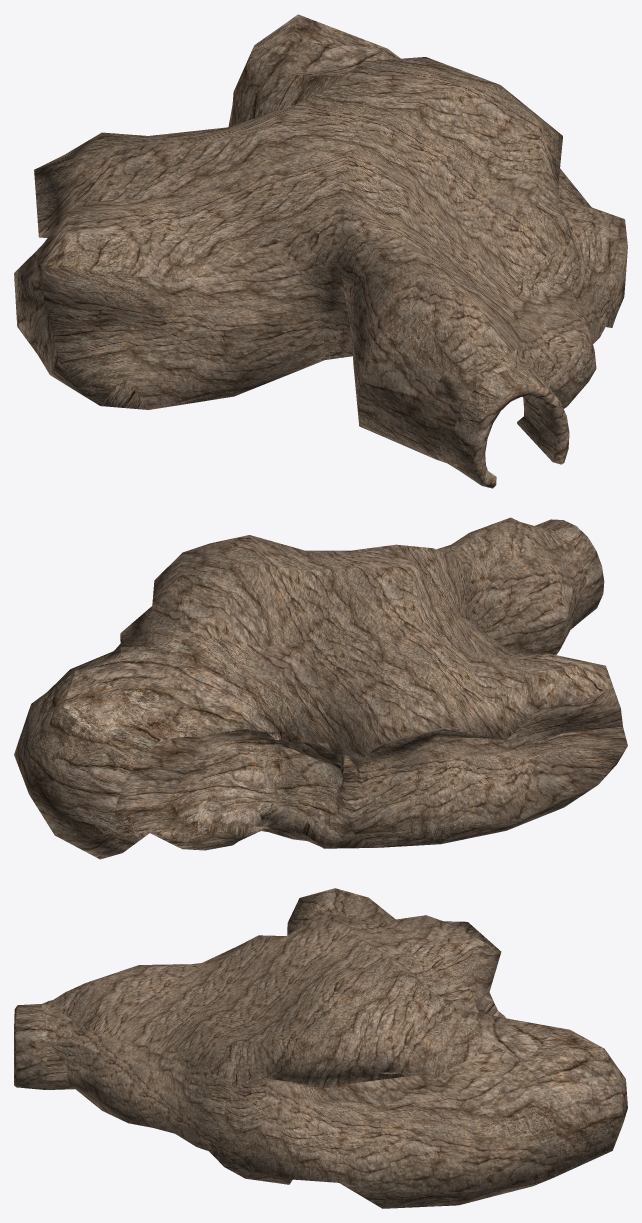
Rendered from wall01.FBX.
3 views of the same model, one above another, from view 1: azimuth 30°, elevation 25°; view 2: azimuth 150°, elevation 25°; view 3: azimuth 270°, elevation 25° (orthographic). The views are drawn at different scales.
Visible parts, largest first — view 1: wall01, wall02; view 2: wall01, wall02; view 3: wall01, wall02.
Boxes of the visible parts, x1,y1,x2,y2 form: wall01: (34, 14, 578, 423); wall02: (14, 48, 627, 488); wall01: (63, 517, 622, 783); wall02: (14, 551, 627, 859); wall01: (14, 888, 600, 1104); wall02: (14, 992, 627, 1208).
Bounding box in the file's own units: 512 × 217 × 644.
